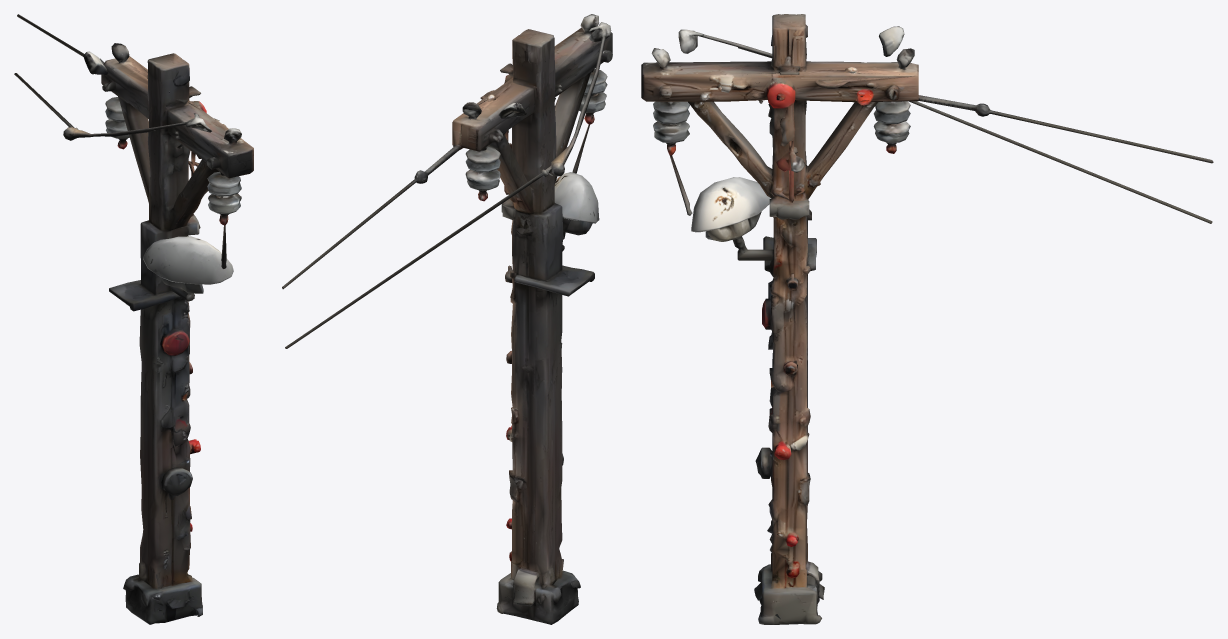
The model's file is power_pole.glb.
The picture shows the model from 3 angles, left to right: view 1: azimuth 30°, elevation 25°; view 2: azimuth 150°, elevation 25°; view 3: azimuth 270°, elevation 25°; orthographic projection. The views are drawn at different scales.
Visible parts, largest first — view 1: tripo_node_ef152ed7-c381-48a2-9d11-e2e481d2eee7; view 2: tripo_node_ef152ed7-c381-48a2-9d11-e2e481d2eee7; view 3: tripo_node_ef152ed7-c381-48a2-9d11-e2e481d2eee7.
Boxes of the visible parts, box(x1,y1,x2,y2) form: tripo_node_ef152ed7-c381-48a2-9d11-e2e481d2eee7: box(14, 14, 253, 624); tripo_node_ef152ed7-c381-48a2-9d11-e2e481d2eee7: box(282, 14, 612, 624); tripo_node_ef152ed7-c381-48a2-9d11-e2e481d2eee7: box(641, 14, 1213, 624).
Size of the model in its own units: 0.8627 by 4 by 3.5.
Materials: 1 (1 with a texture image).
